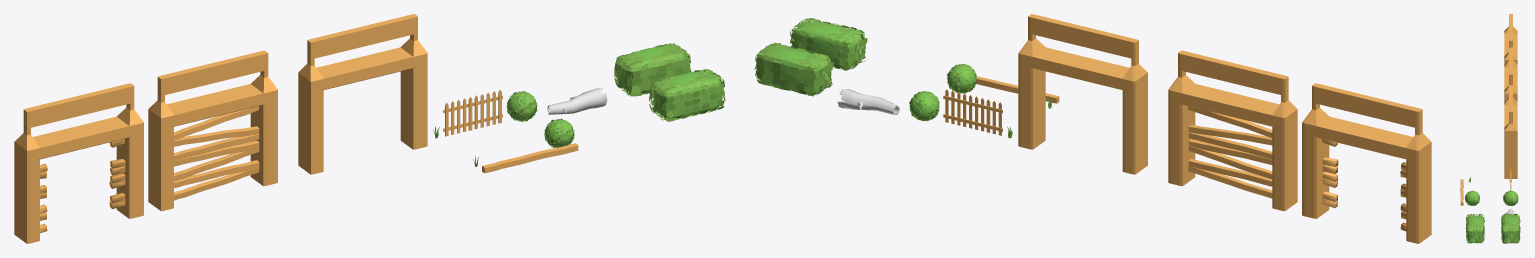
File: AssetsEntorno.fbx
3 renders of one model, left to right at view 1: azimuth 30°, elevation 25°; view 2: azimuth 150°, elevation 25°; view 3: azimuth 270°, elevation 25°, orthographic. The views are drawn at different scales.
Parts seen in each view (by area): view 1: Puerta, Puerta.001, Puerta.002, Bigas, Arbusto Cuadrado.001, Arbusto Cuadrado, Valla, Bigas_rotas, log_lowpoly, asset_biga_irregular, Arbusto, Arbusto.001; view 2: Puerta, Puerta.001, Puerta.002, Bigas, Arbusto Cuadrado, Arbusto Cuadrado.001, Valla, Bigas_rotas, log_lowpoly, Arbusto, Arbusto.001, asset_biga_irregular; view 3: Puerta, Arbusto Cuadrado, Arbusto Cuadrado.001, Puerta.001, Puerta.002, Arbusto, Arbusto.001, asset_biga_irregular.
Part boxes in pixels (x1,y1,x2,y2): Puerta: [298, 14, 427, 174]; Puerta.001: [148, 50, 277, 211]; Puerta.002: [14, 83, 143, 243]; Bigas: [174, 106, 259, 200]; Arbusto Cuadrado.001: [649, 69, 725, 121]; Arbusto Cuadrado: [614, 43, 691, 96]; Valla: [443, 90, 502, 136]; Bigas_rotas: [40, 139, 125, 233]; log_lowpoly: [547, 87, 607, 114]; asset_biga_irregular: [482, 143, 578, 173]; Arbusto: [506, 91, 537, 121]; Arbusto.001: [544, 118, 574, 147]; Puerta: [1018, 14, 1147, 174]; Puerta.001: [1168, 50, 1297, 211]; Puerta.002: [1302, 83, 1431, 243]; Bigas: [1188, 106, 1272, 198]; Arbusto Cuadrado: [754, 42, 833, 96]; Arbusto Cuadrado.001: [790, 18, 867, 70]; Valla: [943, 89, 1002, 135]; Bigas_rotas: [1322, 139, 1406, 231]; log_lowpoly: [837, 89, 899, 114]; Arbusto: [909, 91, 939, 121]; Arbusto.001: [946, 63, 976, 93]; asset_biga_irregular: [975, 76, 1059, 103]; Puerta: [1504, 85, 1517, 178]; Arbusto Cuadrado: [1501, 213, 1520, 243]; Arbusto Cuadrado.001: [1466, 214, 1484, 243]; Puerta.001: [1504, 47, 1517, 101]; Puerta.002: [1504, 14, 1517, 63]; Arbusto: [1503, 190, 1518, 205]; Arbusto.001: [1465, 190, 1479, 205]; asset_biga_irregular: [1460, 179, 1463, 205].
Size of the model in its own units: 4492 by 879 by 684.
